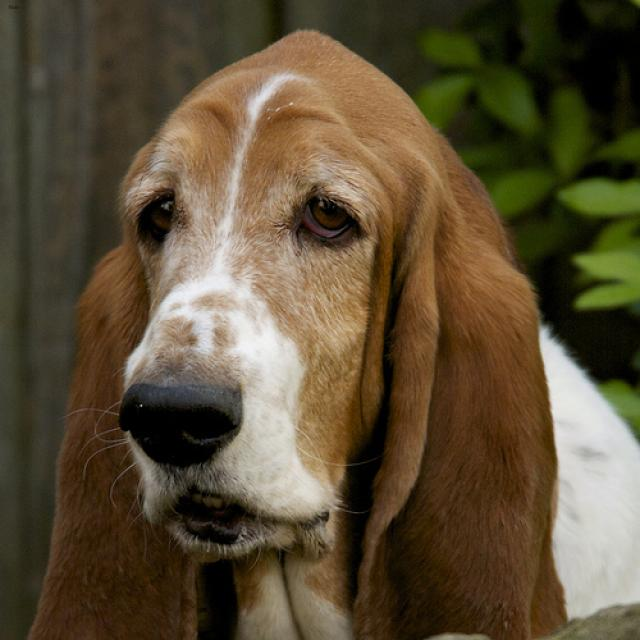dog-basset_hound: (13, 18, 637, 637)
